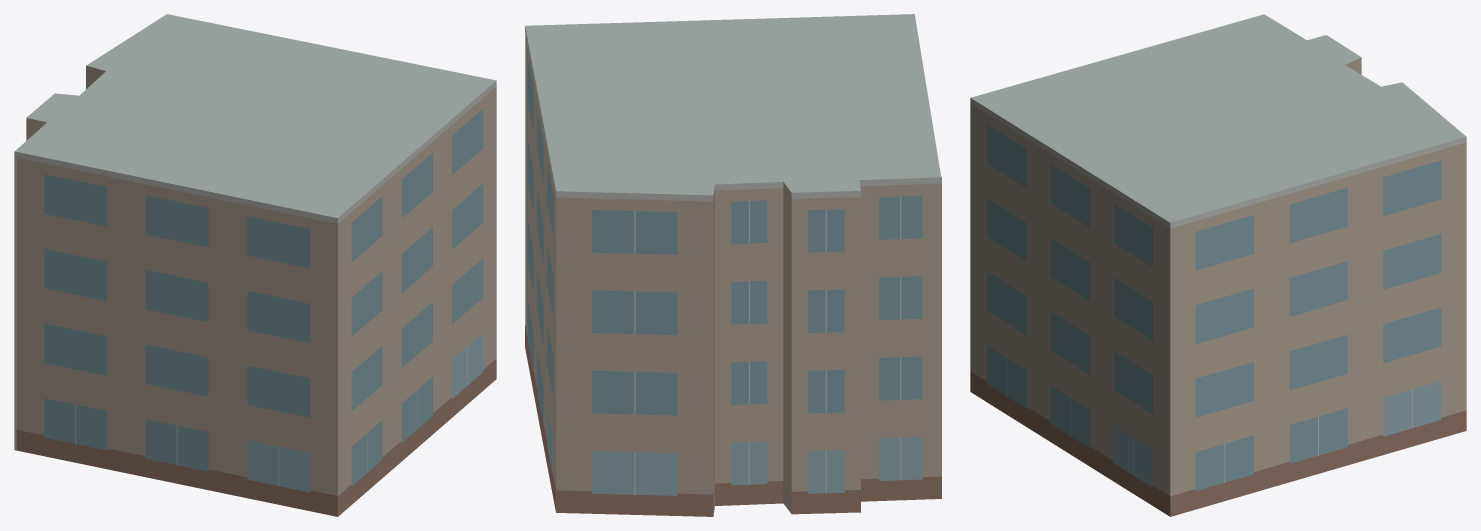
The model's file is survey-upis-32778795.glb.
The picture shows the model from 3 angles, left to right: view 1: azimuth 30°, elevation 25°; view 2: azimuth 150°, elevation 25°; view 3: azimuth 270°, elevation 25°; orthographic projection. The views are drawn at different scales.
Parts seen in each view (by area): view 1: survey-upis-32778795.tmp; view 2: survey-upis-32778795.tmp; view 3: survey-upis-32778795.tmp.
Boxes of the visible parts, left/top/right/bottom form: survey-upis-32778795.tmp: left=14, top=14, right=496, bottom=516; survey-upis-32778795.tmp: left=525, top=14, right=941, bottom=516; survey-upis-32778795.tmp: left=970, top=14, right=1466, bottom=516.
Bounding box in the file's own units: 19.35 × 12.7 × 19.43.
